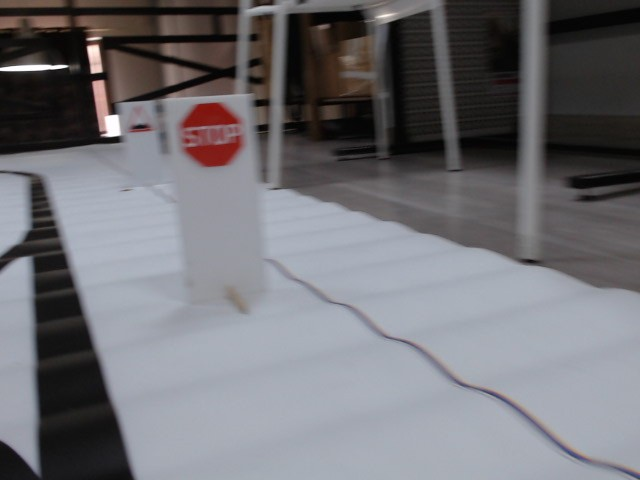Stop: (178, 103, 247, 167)
